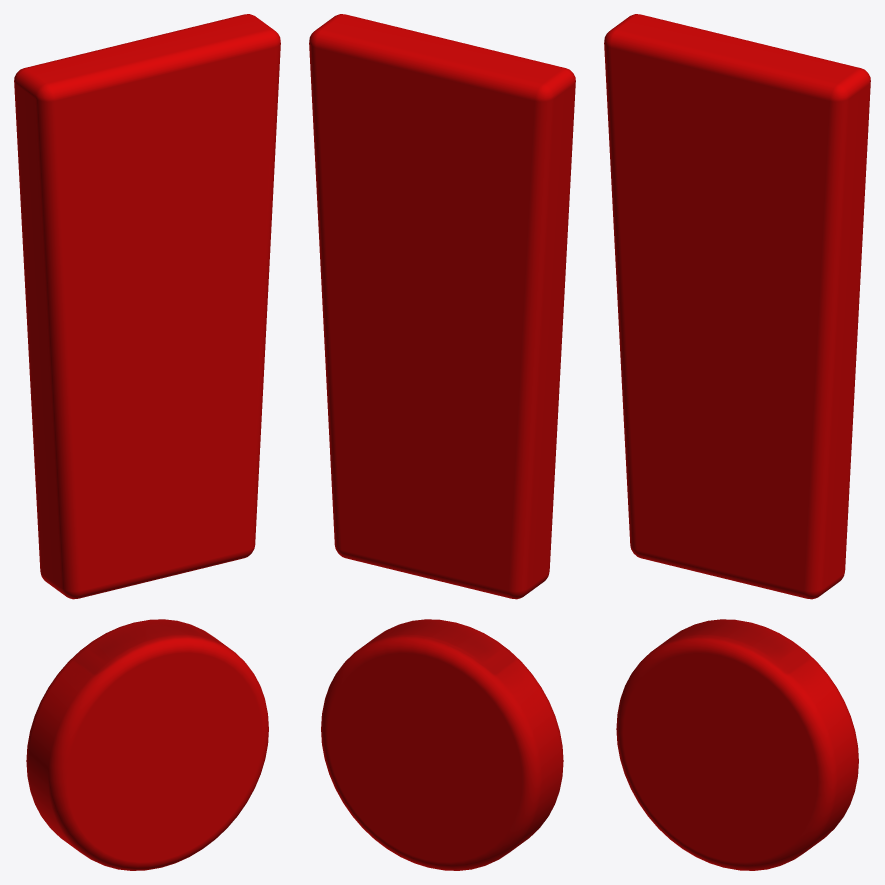
The model's file is des.glb.
The picture shows the model from 3 angles, left to right: view 1: azimuth 30°, elevation 25°; view 2: azimuth 150°, elevation 25°; view 3: azimuth 330°, elevation 25°; orthographic projection.
Parts seen in each view (by area): view 1: node_id30; view 2: node_id30; view 3: node_id30.
Boxes of the visible parts, x1=… form: node_id30: x1=14, y1=14, x2=280, y2=870; node_id30: x1=309, y1=14, x2=575, y2=870; node_id30: x1=604, y1=14, x2=870, y2=870.
Bounding box in the file's own units: 0.1609 × 0.512 × 0.0389.
Materials: 1 (1 with a texture image).
